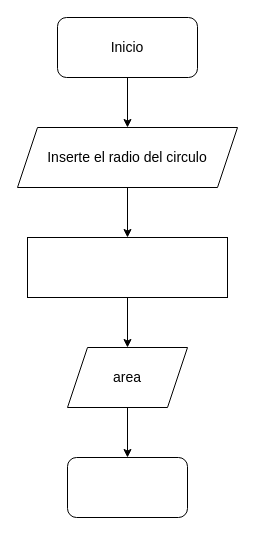
The diagram is 255 pixels wide and 535 high, and some of its shapes have lost their labels. The centre of each missing label's shape, as x and y in pixels:
area = 3.14 * (n ** 2): [127,267]
Fin: [127,487]
